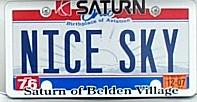C: (63, 27, 83, 74)
E: (84, 28, 109, 75), (118, 27, 136, 74)
I: (41, 28, 62, 75)
K: (139, 27, 159, 74)
N: (17, 26, 42, 76)
Y: (162, 26, 184, 72)
